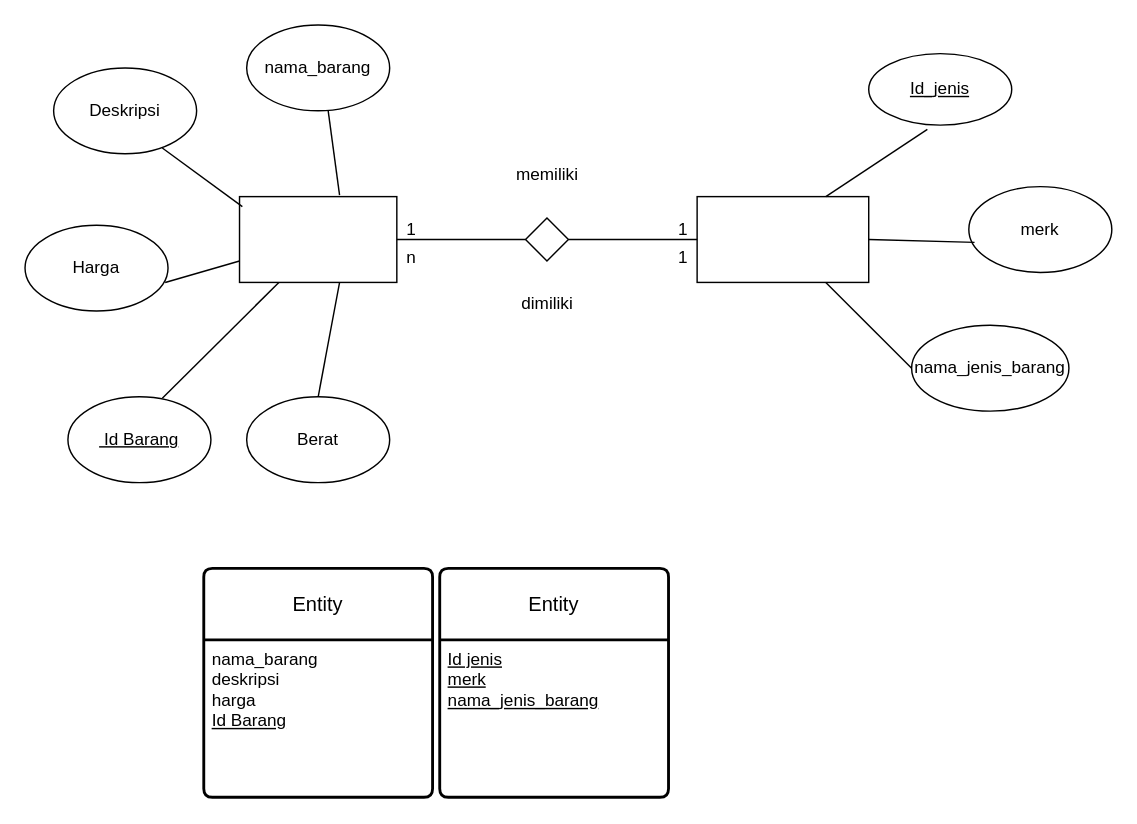
Some shapes in this 1137 by 824 pixel diagram are drawn without their labels. The box of each missing label's shape, as (x1, y1, x2, y2) in pixels:
Barang: (238, 195, 397, 282)
Jenis Barang: (696, 195, 869, 282)
